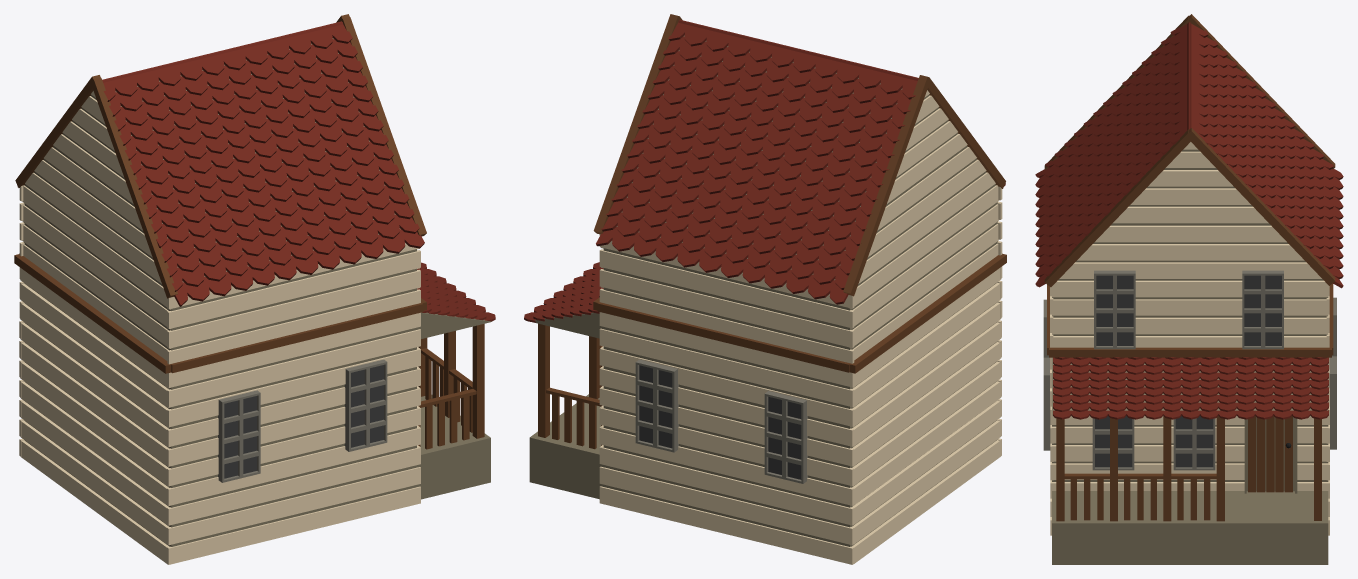
Rendered from house_small.fbx.
3 renders of one model, left to right at view 1: azimuth 30°, elevation 25°; view 2: azimuth 150°, elevation 25°; view 3: azimuth 270°, elevation 25°, orthographic. The views are drawn at different scales.
Parts seen in each view (by area): view 1: Cube.064, Cube.039, Cube.040, Cube.043, Cube.033, Cube.042, Cube.044, Cube.062, Cube.061, Cube.041, Cube.069, Cube.073 (+8 smaller); view 2: Cube.065, Cube.038, Cube.037, Cube.043, Cube.033, Cube.042, Cube.044, Cube.060, Cube.063, Cube.041, Cube.070, Cube.071 (+8 smaller); view 3: Cube.033, Cube.035, Cube.064, Cube.065, Cube.066, Cube.034, Cube.036, Cube.023, Cube.058, Cube.059, Cube.054, Cube.072 (+12 smaller).
Part boxes in pixels (x1,y1,x2,y2): Cube.064: (102, 21, 424, 306); Cube.039: (167, 369, 420, 564); Cube.040: (167, 243, 420, 427); Cube.043: (20, 268, 170, 506); Cube.033: (23, 38, 491, 546); Cube.042: (22, 147, 170, 360); Cube.044: (21, 401, 169, 564); Cube.062: (344, 359, 387, 451); Cube.061: (218, 390, 260, 482); Cube.041: (53, 91, 133, 203); Cube.069: (90, 77, 177, 298); Cube.073: (171, 303, 423, 373); Cube.065: (596, 19, 918, 304); Cube.038: (599, 368, 853, 564); Cube.037: (599, 234, 854, 426); Cube.043: (850, 268, 1001, 505); Cube.033: (529, 35, 997, 546); Cube.042: (849, 147, 999, 359); Cube.044: (852, 400, 1000, 563); Cube.060: (635, 359, 678, 452); Cube.063: (764, 391, 807, 483); Cube.041: (887, 90, 967, 203); Cube.070: (843, 75, 930, 296); Cube.071: (597, 303, 849, 372); Cube.033: (1052, 149, 1328, 564); Cube.035: (1052, 225, 1328, 347); Cube.064: (1035, 22, 1191, 287); Cube.065: (1187, 22, 1343, 288); Cube.066: (1053, 357, 1328, 419); Cube.034: (1051, 372, 1328, 498); Cube.036: (1113, 142, 1268, 223); Cube.023: (1056, 416, 1224, 521); Cube.058: (1242, 270, 1283, 349); Cube.059: (1094, 270, 1135, 349); Cube.054: (1248, 416, 1292, 492); Cube.072: (1049, 346, 1331, 357).
Size of the model in its own units: 1648 by 2030 by 1397.
